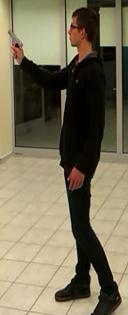pistol: (5, 28, 24, 59)
